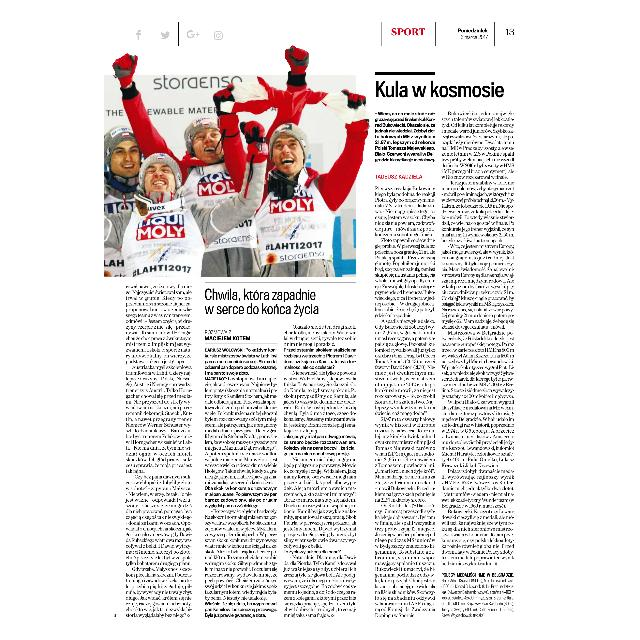article: (374, 70, 520, 622)
